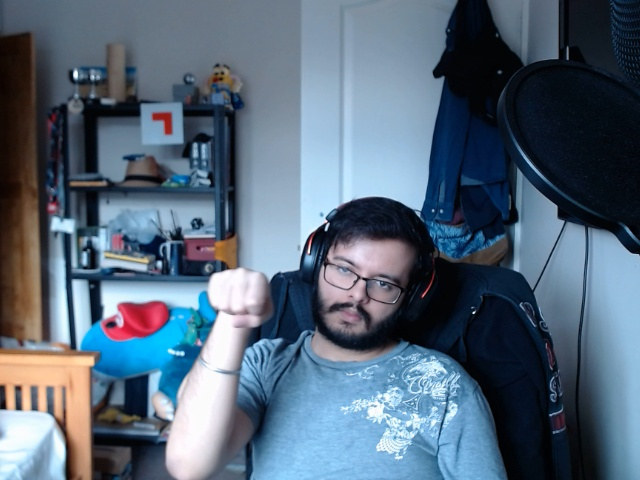Yes: (200, 264, 279, 330)
